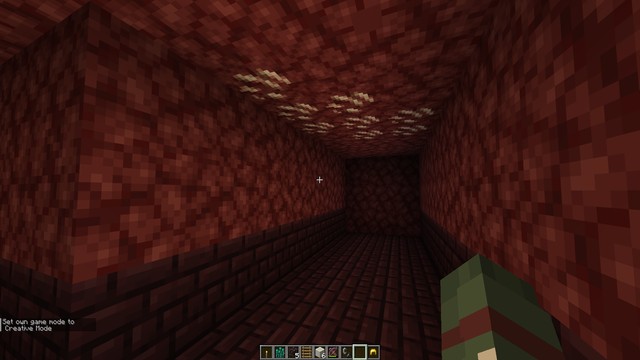quartz: (223, 65, 438, 140)
